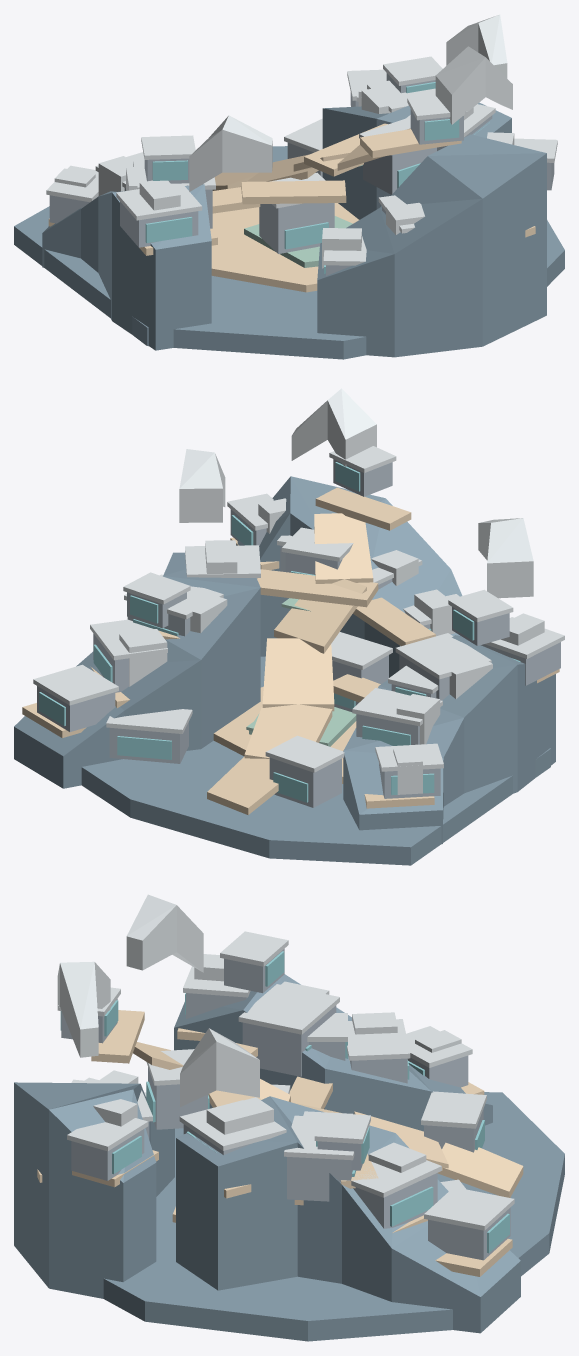
File: a27_delta_civic_city.glb
3 renders of one model, top to bottom at view 1: azimuth 30°, elevation 25°; view 2: azimuth 150°, elevation 25°; view 3: azimuth 270°, elevation 25°, orthographic. The views are drawn at different scales.
Bounding box in the file's own units: 324 × 188 × 317.
